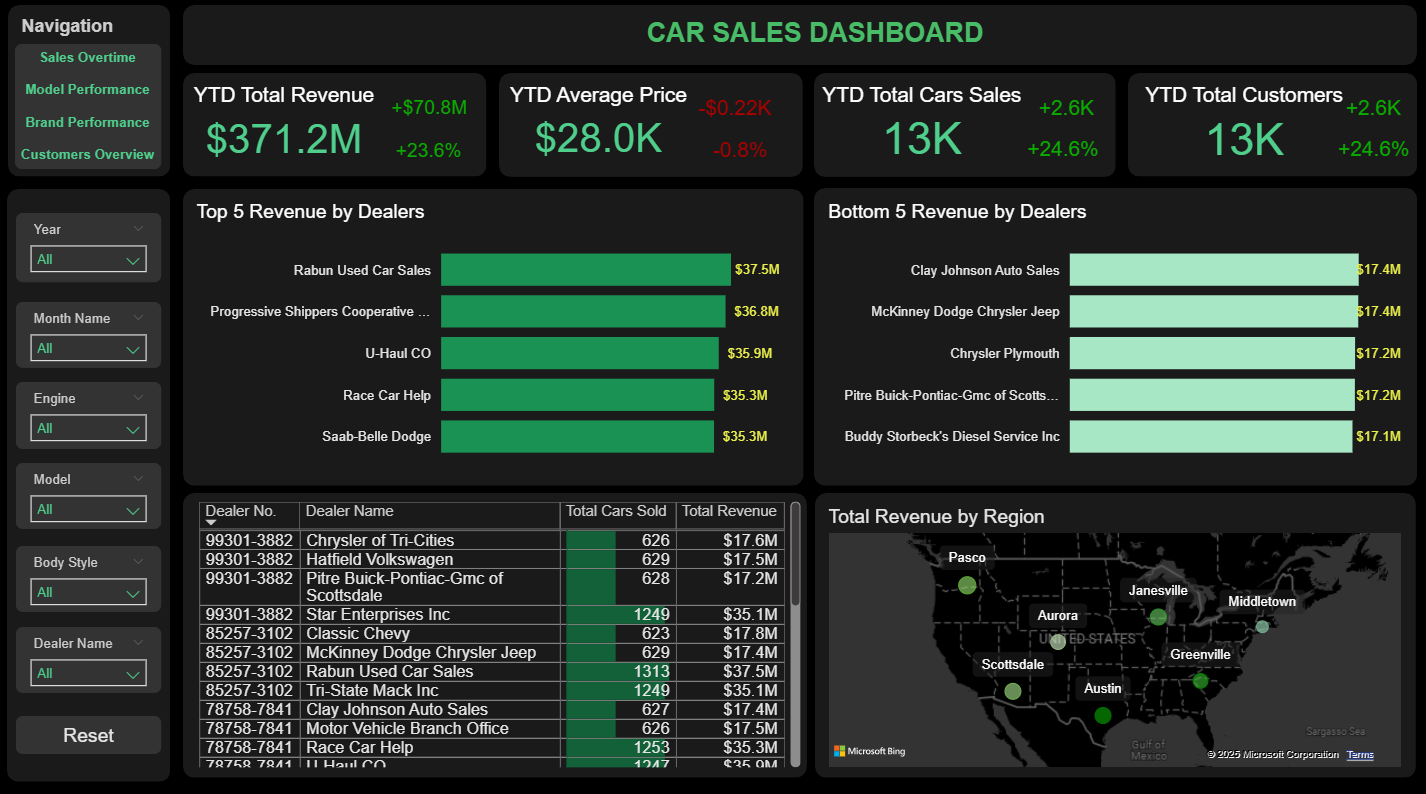

The page's visual inventory and layout, read from the dashboard file:
{"tool":"powerbi","page":{"name":"Dealer Performance","canvas":[1280,720],"ordinal":3},"visuals":[{"type":"shape","box":[7.3,11.8,145.5,153.6],"z":0},{"type":"shape","box":[163.9,11.6,1105.1,53.7],"z":1000},{"type":"shape","box":[6.4,176.4,146.4,530.9],"z":2000},{"type":"shape","box":[1010,72.7,259.1,92.7],"z":3000},{"type":"shape","box":[729.1,175.2,540.2,266.7],"z":4000},{"type":"shape","box":[163.5,448.7,558.7,255],"z":5000},{"type":"shape","box":[730,448.7,538.3,255],"z":6000},{"type":"slicer","fields":{"Values":["DateTable.Year"]},"box":[14.5,198.2,130,61.8],"z":7000},{"type":"tableEx","fields":{"Values":["Dealer.Dealer_No ","Dealer.Dealer_Name","Measrure.Total Cars Sold","Measrure.Total Revenue"]},"box":[172.3,451.7,550,248.2],"z":8000},{"type":"map","title":"Total Revenue by Region","fields":{"Size":["Car Sales Datasets.Total Revenue"],"Category":["Dealer.Dealer_Region"]},"box":[736.9,459.4,522.7,240.4],"z":9000},{"type":"slicer","fields":{"Values":["Car Model.Engine"]},"box":[14.5,349.1,130,60],"z":10000},{"type":"slicer","fields":{"Values":["Car Model.Model"]},"box":[14.5,421.8,130,59.1],"z":11000},{"type":"slicer","fields":{"Values":["Dealer.Dealer_Name"]},"box":[14.5,569.1,130,59.1],"z":12000},{"type":"slicer","fields":{"Values":["Car Model.Body Style"]},"box":[14.5,496.4,130,59.1],"z":13000},{"type":"textbox","box":[460.3,17.9,539.1,40.3],"z":14000},{"type":"textbox","box":[14.5,17.3,138.2,29.1],"z":15000},{"type":"actionButton","box":[14.5,648.2,130,33.6],"z":16000},{"type":"slicer","fields":{"Values":["DateTable.Month Name"]},"box":[14.5,277.3,130,59.1],"z":17000},{"type":"shape","box":[163.5,176.2,555.8,265.7],"z":18000},{"type":"clusteredBarChart","title":"Top 5 Revenue by Dealers ","fields":{"Category":["Dealer.Dealer_Name"],"Y":["Measrure.Total Revenue"]},"box":[171.3,185.9,532.4,247.2],"z":19000},{"type":"clusteredBarChart","title":"Bottom 5 Revenue by Dealers ","fields":{"Category":["Dealer.Dealer_Name"],"Y":["Measrure.Total Revenue"]},"box":[736.9,185.9,522.7,247.2],"z":20000},{"type":"pageNavigator","box":[13.6,46.4,130.9,111.8],"z":21000},{"type":"shape","box":[163.6,71.8,264.5,92.7],"z":22000},{"type":"card","title":"YTD Total Revenue","fields":{"Values":["Measrure.YTD Revenue"]},"box":[164.5,87.3,138.2,78.2],"z":23000},{"type":"card","fields":{"Values":["Sales.Revenue Diff and Icon"]},"box":[302.7,72.7,68.2,46.4],"z":24000},{"type":"card","fields":{"Values":["Measrure.YOY Revenue Growth and Icon"]},"box":[368.2,72.7,60.9,46.4],"z":25000},{"type":"shape","box":[443.6,71.8,275.5,92.7],"z":26000},{"type":"card","fields":{"Values":["Measrure.Avg Sale Price Diff and Icon"]},"box":[589.1,72.7,64.5,46.4],"z":27000},{"type":"card","fields":{"Values":["Measrure.YOY Avg Price Growth and Icon"]},"box":[653.6,72.7,50.9,46.4],"z":28000},{"type":"card","title":" YTD Average Price","fields":{"Values":["Measrure.YTD Avg Sale Price"]},"box":[444.5,87.3,144.5,78.2],"z":29000},{"type":"shape","box":[730,71.8,269.1,92.7],"z":30000},{"type":"card","title":"YTD Total Cars Sales","fields":{"Values":["Measrure.YTD Total Cars Sold"]},"box":[730,87.3,153.6,78.2],"z":31000},{"type":"card","fields":{"Values":["Measrure.Total Cars Sold Diff and Icon"]},"box":[880,72.7,49.1,46.4],"z":32000},{"type":"card","fields":{"Values":["Measure.YOY Total Cars Sold Growth and Icon"]},"box":[929.1,72.7,61.8,46.4],"z":33000},{"type":"card","title":"YTD Total Customers","fields":{"Values":["Measure.YTD Total Customers"]},"box":[1010,87.3,153.6,78.2],"z":34000},{"type":"card","fields":{"Values":["Measure.Total Customers Diff and Icon"]},"box":[1156.4,72.7,51.8,46.4],"z":35000},{"type":"card","fields":{"Values":["Measure.YOY Total Customers Growth and Icon"]},"box":[1205.5,72.7,61.8,46.4],"z":37000},{"type":"lineChart","fields":{"Category":["DateTable.Month Number"],"Y":["Measure.Total Revenue"]},"box":[296.4,86,163.9,78.8],"z":40001},{"type":"lineChart","fields":{"Category":["DateTable.Month Number"],"Y":["Measure.Average Sale Price"]},"box":[580.3,99.4,160.3,65.4],"z":40002},{"type":"lineChart","fields":{"Category":["DateTable.Month Number"],"Y":["Measure.Total Cars Sold"]},"box":[873.1,96.7,137,68.1],"z":40003},{"type":"lineChart","fields":{"Category":["DateTable.Month Number"],"Y":["Customer.Total Customers"]},"box":[1151.6,96.7,128.1,68.1],"z":40004}]}

Visuals, with their boxes in screenshot pixels (x1, y1, x2, y2), scaled from the page's 1280x720 canvas onto the 1426x794 screenshot:
shape: <bbox>8, 13, 170, 182</bbox>
shape: <bbox>183, 13, 1414, 72</bbox>
shape: <bbox>7, 195, 170, 780</bbox>
shape: <bbox>1125, 80, 1414, 182</bbox>
shape: <bbox>812, 193, 1414, 487</bbox>
shape: <bbox>182, 495, 805, 776</bbox>
shape: <bbox>813, 495, 1413, 776</bbox>
slicer - DateTable.Year: <bbox>16, 219, 161, 287</bbox>
tableEx - Dealer.Dealer_No  x Dealer.Dealer_Name: <bbox>192, 498, 805, 772</bbox>
"Total Revenue by Region" map: <bbox>821, 507, 1403, 772</bbox>
slicer - Car Model.Engine: <bbox>16, 385, 161, 451</bbox>
slicer - Car Model.Model: <bbox>16, 465, 161, 530</bbox>
slicer - Dealer.Dealer_Name: <bbox>16, 628, 161, 693</bbox>
slicer - Car Model.Body Style: <bbox>16, 547, 161, 613</bbox>
textbox: <bbox>513, 20, 1113, 64</bbox>
textbox: <bbox>16, 19, 170, 51</bbox>
actionButton: <bbox>16, 715, 161, 752</bbox>
slicer - DateTable.Month Name: <bbox>16, 306, 161, 371</bbox>
shape: <bbox>182, 194, 801, 487</bbox>
"Top 5 Revenue by Dealers " clusteredBarChart: <bbox>191, 205, 784, 478</bbox>
"Bottom 5 Revenue by Dealers " clusteredBarChart: <bbox>821, 205, 1403, 478</bbox>
pageNavigator: <bbox>15, 51, 161, 174</bbox>
shape: <bbox>182, 79, 477, 181</bbox>
"YTD Total Revenue" card: <bbox>183, 96, 337, 183</bbox>
card - Sales.Revenue Diff and Icon: <bbox>337, 80, 413, 131</bbox>
card - Measrure.YOY Revenue Growth and Icon: <bbox>410, 80, 478, 131</bbox>
shape: <bbox>494, 79, 801, 181</bbox>
card - Measrure.Avg Sale Price Diff and Icon: <bbox>656, 80, 728, 131</bbox>
card - Measrure.YOY Avg Price Growth and Icon: <bbox>728, 80, 785, 131</bbox>
" YTD Average Price" card: <bbox>495, 96, 656, 183</bbox>
shape: <bbox>813, 79, 1113, 181</bbox>
"YTD Total Cars Sales" card: <bbox>813, 96, 984, 183</bbox>
card - Measrure.Total Cars Sold Diff and Icon: <bbox>980, 80, 1035, 131</bbox>
card - Measure.YOY Total Cars Sold Growth and Icon: <bbox>1035, 80, 1104, 131</bbox>
"YTD Total Customers" card: <bbox>1125, 96, 1296, 183</bbox>
card - Measure.Total Customers Diff and Icon: <bbox>1288, 80, 1346, 131</bbox>
card - Measure.YOY Total Customers Growth and Icon: <bbox>1343, 80, 1412, 131</bbox>
lineChart - DateTable.Month Number x Measure.Total Revenue: <bbox>330, 95, 513, 182</bbox>
lineChart - DateTable.Month Number x Measure.Average Sale Price: <bbox>646, 110, 825, 182</bbox>
lineChart - DateTable.Month Number x Measure.Total Cars Sold: <bbox>973, 107, 1125, 182</bbox>
lineChart - DateTable.Month Number x Customer.Total Customers: <bbox>1283, 107, 1425, 182</bbox>
